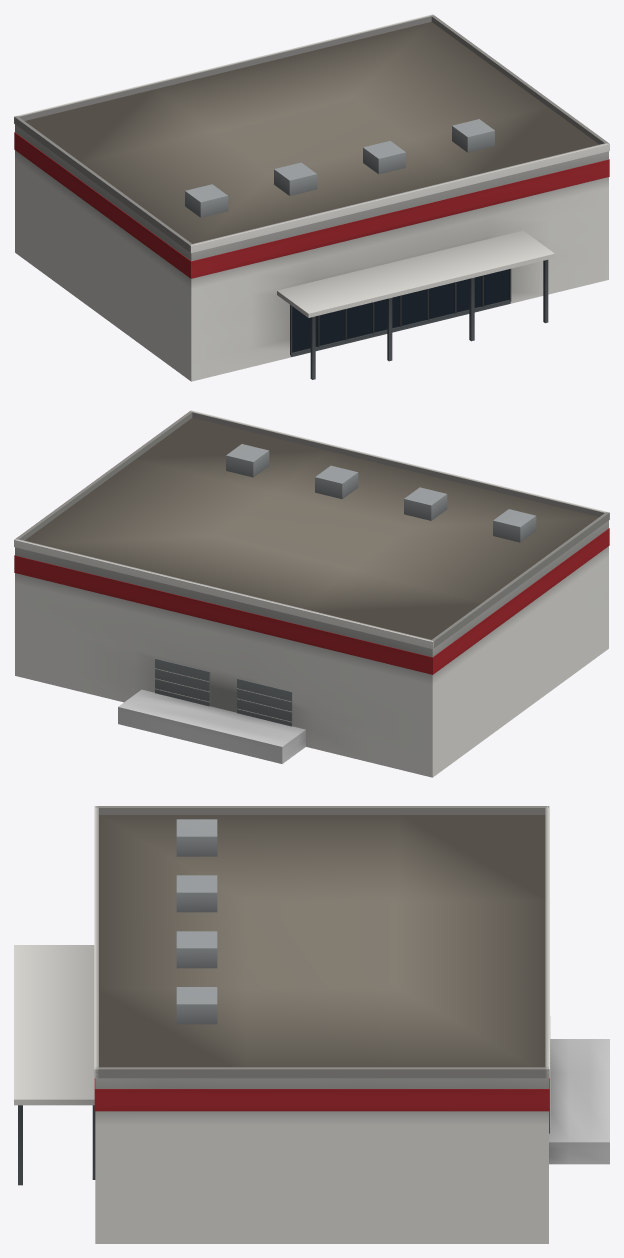
Rendered from supermercado-41jZwhXA.glb.
3 views of the same model, one above another, from view 1: azimuth 30°, elevation 25°; view 2: azimuth 150°, elevation 25°; view 3: azimuth 270°, elevation 25° (orthographic). The views are drawn at different scales.
Parts seen in each view (by area): view 1: pieza.002, pieza, pieza.001, pieza.019, pieza.007, pieza.003, pieza.004, pieza.005, pieza.006, pieza.024, pieza.025, pieza.027 (+2 smaller); view 2: pieza.002, pieza, pieza.001, pieza.028, pieza.004, pieza.003, porton, porton.005, pieza.005, pieza.006, pieza.025, pieza.027 (+2 smaller); view 3: pieza.002, pieza, pieza.019, pieza.001, pieza.028, pieza.006, pieza.005, pieza.024, pieza.025, pieza.026, pieza.027, pieza.003 (+1 smaller).
Boxes of the visible parts, x1,y1,x2,y2 form: pieza.002: (25,22,598,243); pieza: (15,124,608,381); pieza.001: (14,132,609,278); pieza.019: (277,230,554,317); pieza.007: (292,269,508,352); pieza.003: (189,143,609,252); pieza.004: (14,14,434,123); pieza.005: (14,116,191,252); pieza.006: (430,15,609,144); pieza.024: (185,184,228,217); pieza.025: (274,162,317,195); pieza.027: (452,119,494,152); pieza.002: (25,418,598,639); pieza: (15,520,608,777); pieza.001: (14,528,609,674); pieza.028: (118,689,305,763); pieza.004: (14,539,434,648); pieza.003: (189,410,609,519); porton: (237,678,292,726); porton.005: (155,658,210,706); pieza.005: (432,512,609,648); pieza.006: (14,411,192,540); pieza.025: (404,487,447,520); pieza.027: (226,444,269,477); pieza.002: (99,815,545,1067); pieza: (95,1078,548,1243); pieza.019: (14,945,94,1105); pieza.001: (94,1078,549,1111); pieza.028: (549,1039,609,1164); pieza.006: (95,1067,548,1078); pieza.005: (95,806,548,814); pieza.024: (176,819,217,856); pieza.025: (176,875,217,912); pieza.026: (176,931,217,968); pieza.027: (176,987,217,1024); pieza.003: (94,806,98,1078).
Bounding box in the file's own units: 30.6 × 10.2 × 29.3.
